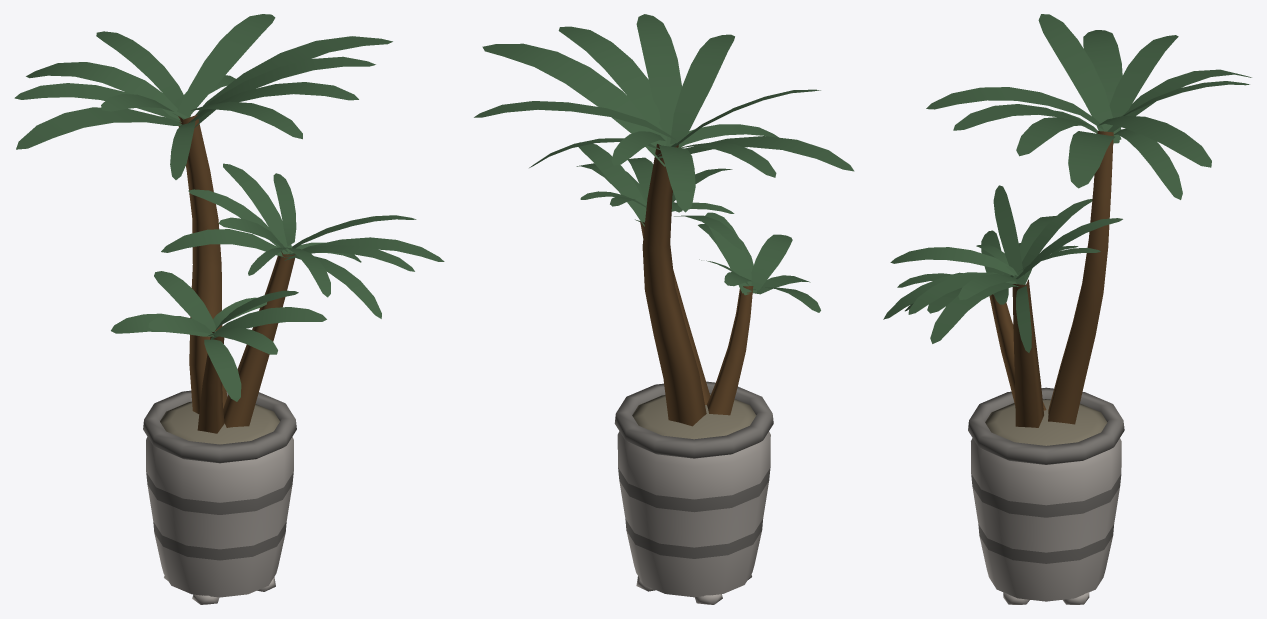
File: plant1.gltf
3 views of the same model, side by side, from view 1: azimuth 30°, elevation 25°; view 2: azimuth 150°, elevation 25°; view 3: azimuth 270°, elevation 25° (orthographic). The views are drawn at different scales.
Parts seen in each view (by area): view 1: Plane, Cylinder.004, Plane.001, Cube.002, Plane.003, Cylinder.005, Cylinder.006; view 2: Plane, Cylinder.004, Cube.002, Cylinder.005, Plane.001, Plane.003, Cylinder.006; view 3: Cylinder.004, Plane, Cube.002, Plane.001, Cylinder.005, Cylinder.006, Plane.003.
Boxes of the visible parts, <box> form: Plane: <box>14,14,392,179</box>; Cylinder.004: <box>146,437,293,597</box>; Plane.001: <box>161,163,444,318</box>; Cube.002: <box>178,114,295,433</box>; Plane.003: <box>111,271,326,401</box>; Cylinder.005: <box>143,390,296,463</box>; Cylinder.006: <box>160,401,279,444</box>; Plane: <box>474,14,854,212</box>; Cylinder.004: <box>617,431,770,597</box>; Cube.002: <box>640,144,753,426</box>; Cylinder.005: <box>614,381,773,458</box>; Plane.001: <box>576,142,742,249</box>; Plane.003: <box>698,212,820,312</box>; Cylinder.006: <box>632,393,756,439</box>; Cylinder.004: <box>971,438,1121,601</box>; Plane: <box>926,14,1251,199</box>; Cube.002: <box>989,131,1113,427</box>; Plane.001: <box>883,185,1122,352</box>; Cylinder.005: <box>968,387,1124,464</box>; Cylinder.006: <box>985,399,1107,445</box>; Plane.003: <box>897,230,1078,313</box>.
Bounding box in the file's own units: 1.03 × 1.36 × 0.8752.
